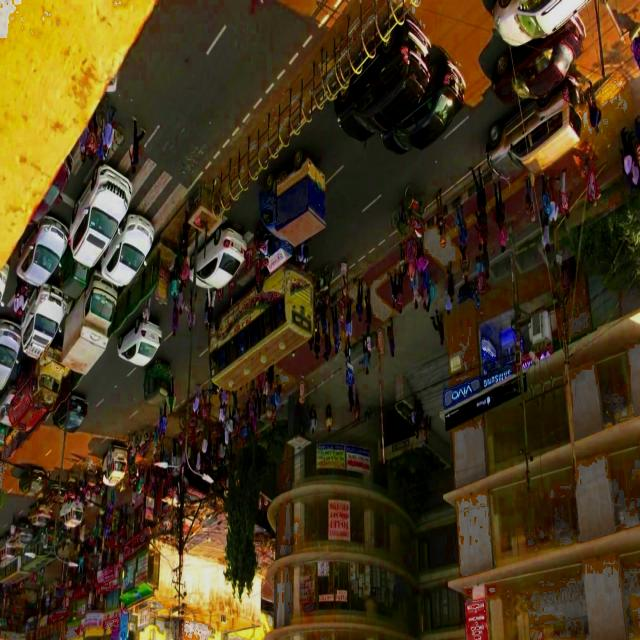black: (325, 28, 430, 137), (387, 88, 463, 160)
maroon: (496, 35, 584, 98)
silver: (482, 82, 585, 185), (16, 210, 65, 290), (0, 324, 15, 392)
white: (68, 156, 134, 261), (489, 0, 598, 47), (19, 281, 68, 361), (188, 226, 248, 290), (104, 216, 154, 288), (116, 319, 162, 370), (104, 434, 127, 491)
